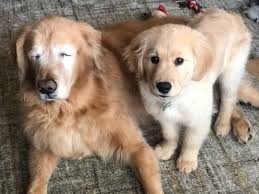Bulldog: (7, 11, 136, 193), (135, 3, 259, 174)
